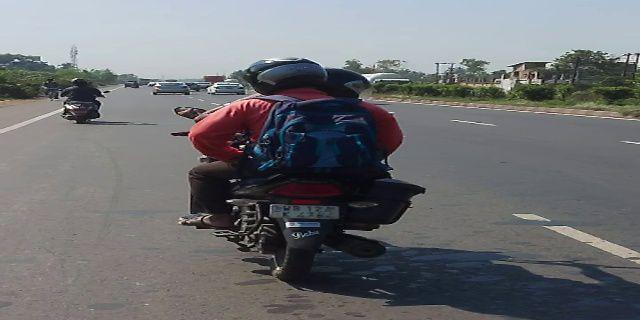Car: (149, 78, 192, 99)
Motorbike: (170, 49, 424, 292), (55, 72, 104, 129)
